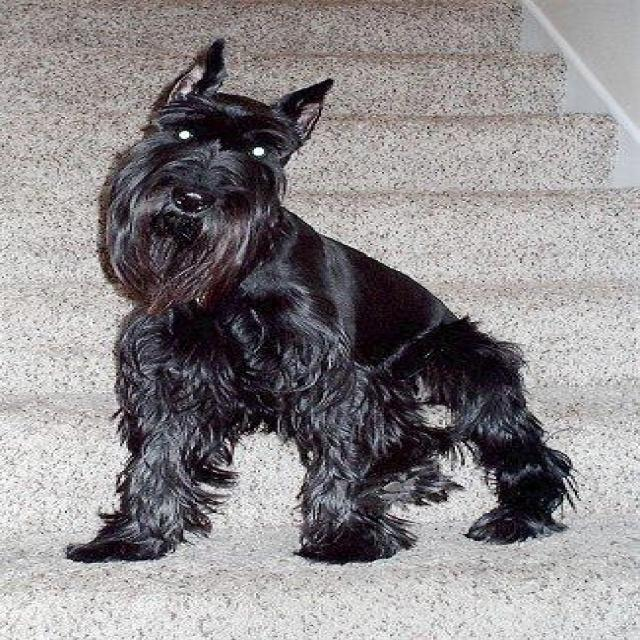standard_schnauzer: (59, 34, 581, 578)
